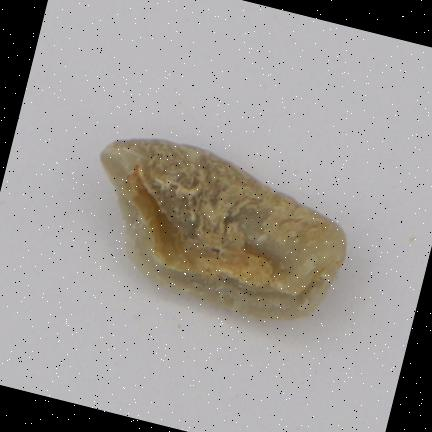cut: (100, 139, 345, 319)
